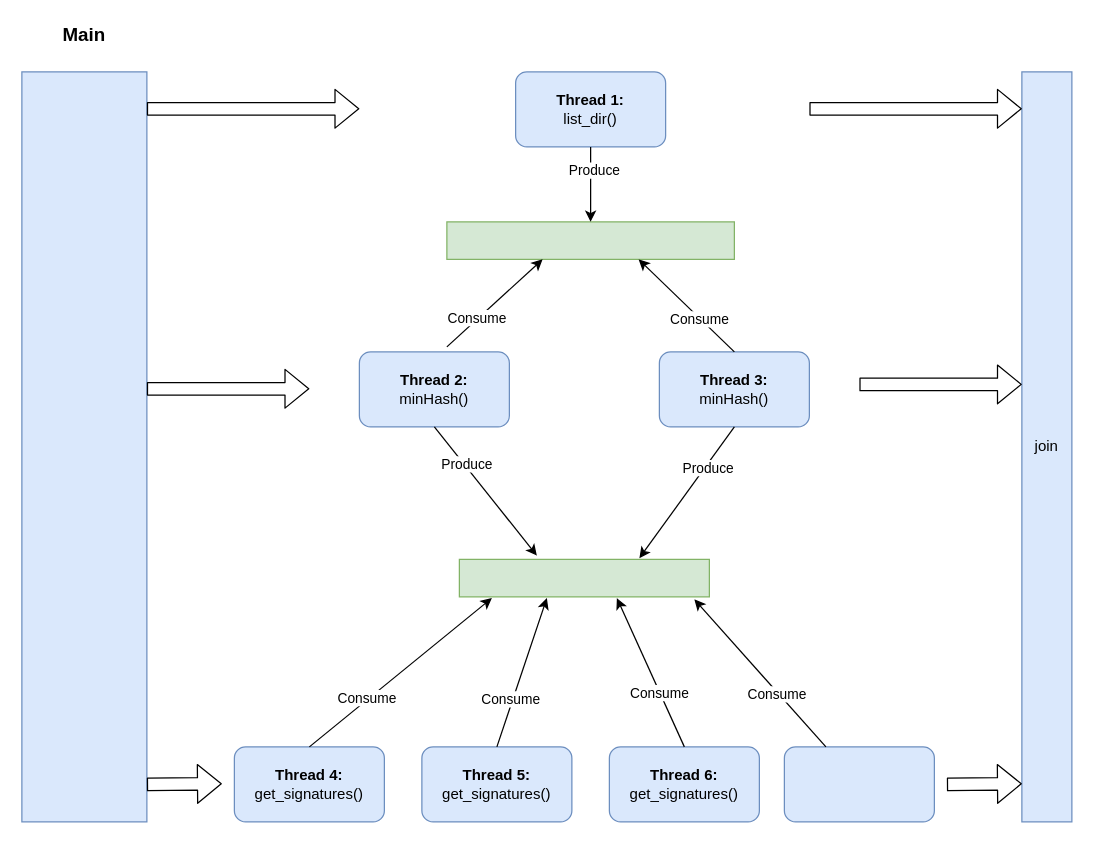
The diagram is 1094 pixels wide and 844 high, and some of its shapes have lost their labels. Each missing label, with the centre of its shape:
"init_queue init mutex init cond_var create_threads" goes at (84,446).
"queue_1 : char *filenames" goes at (590,240).
"queue_2 : shingles[]" goes at (583,577).
"Thread 7: get_signatures()" goes at (858,784).
